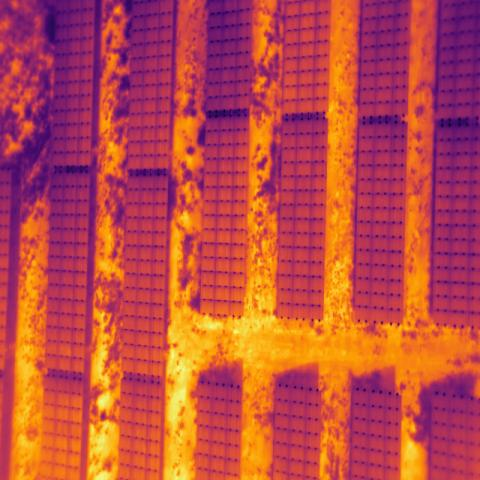fault: (57, 341, 72, 358)
